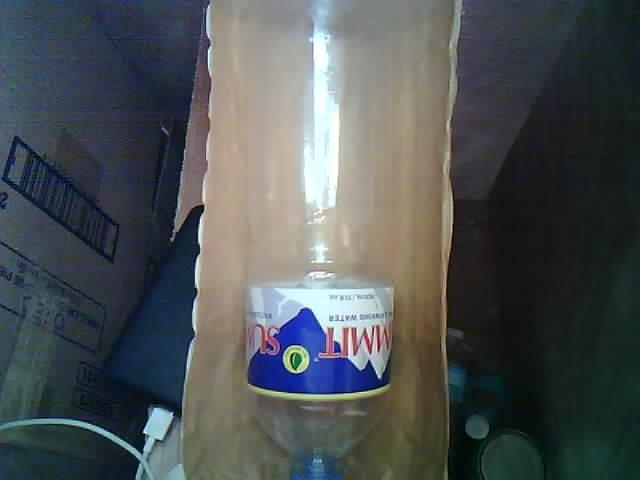large_bottle: (222, 0, 408, 480)
